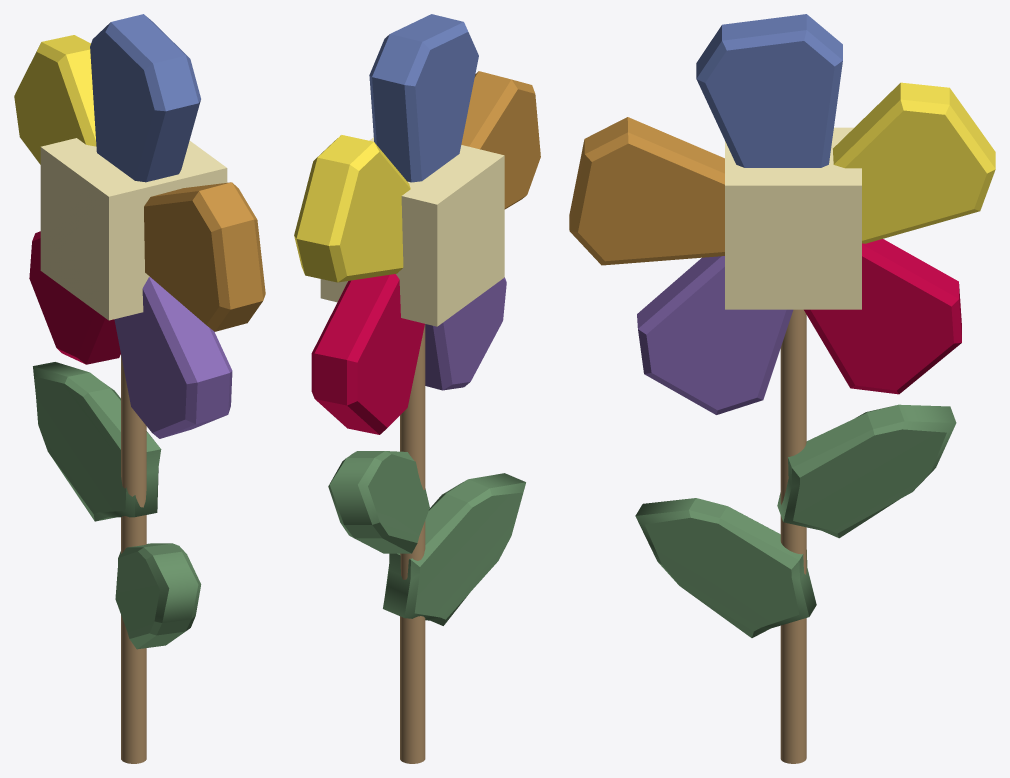
The model's file is windrad.fbx.
The picture shows the model from 3 angles, left to right: view 1: azimuth 30°, elevation 25°; view 2: azimuth 150°, elevation 25°; view 3: azimuth 270°, elevation 25°; orthographic projection.
Visible parts, largest first — view 1: blattball, bluete1, bluete3, bluete, blatt1, bluete2, blatt3, stange, bluete4; view 2: blattball, bluete1, bluete2, bluete4, blatt3, blatt1, bluete3, stange, bluete; view 3: blattball, bluete3, bluete1, bluete2, blatt3, bluete, blatt1, bluete4, stange.
Boxes of the visible parts, left/top/right/bottom form: blattball: left=40, top=138, right=227, bottom=320; bluete1: left=90, top=14, right=200, bottom=182; bluete3: left=144, top=182, right=265, bottom=331; bluete: left=114, top=277, right=232, bottom=438; blatt1: left=33, top=362, right=161, bottom=521; bluete2: left=14, top=35, right=96, bottom=164; blatt3: left=115, top=543, right=201, bottom=649; stange: left=121, top=355, right=146, bottom=763; bluete4: left=29, top=231, right=120, bottom=364; blattball: left=320, top=137, right=504, bottom=326; bluete1: left=369, top=14, right=478, bottom=182; bluete2: left=294, top=135, right=410, bottom=282; bluete4: left=311, top=274, right=424, bottom=434; blatt3: left=383, top=473, right=525, bottom=625; blatt1: left=328, top=451, right=429, bottom=553; bluete3: left=461, top=71, right=540, bottom=209; stange: left=400, top=324, right=425, bottom=763; bluete: left=425, top=277, right=506, bottom=390; blattball: left=725, top=127, right=861, bottom=309; bluete3: left=569, top=117, right=724, bottom=265; bluete1: left=696, top=14, right=842, bottom=167; bluete2: left=833, top=82, right=995, bottom=243; blatt3: left=635, top=498, right=816, bottom=637; bluete: left=637, top=256, right=793, bottom=414; blatt1: left=777, top=404, right=956, bottom=538; bluete4: left=804, top=239, right=961, bottom=394; stange: left=780, top=309, right=806, bottom=763.
Bounding box in the file's own units: 2 × 11.88 × 6.24.
